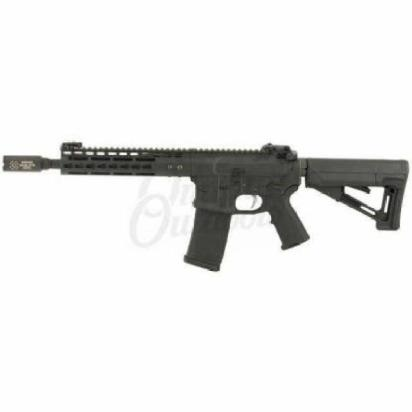Gun: (0, 142, 408, 246)
